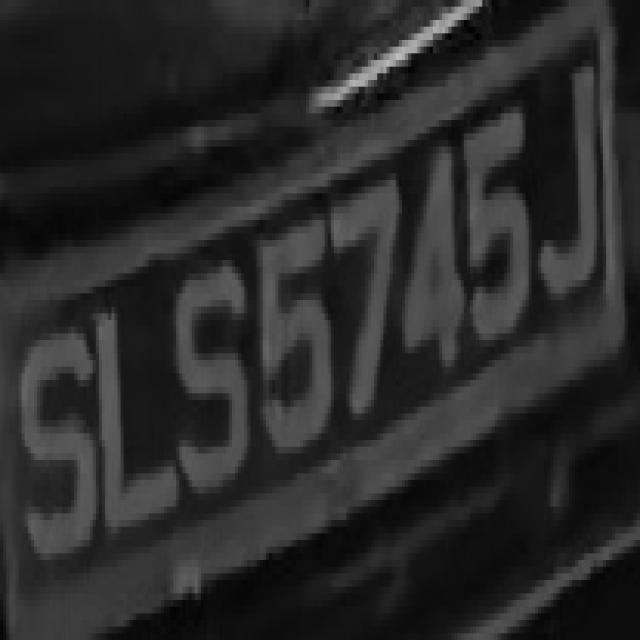4: (396, 140, 460, 407)
5: (247, 220, 331, 487), (461, 113, 535, 347)
7: (321, 180, 399, 447)
J: (532, 53, 606, 327)
L: (84, 280, 180, 533)
S: (158, 267, 254, 513), (12, 320, 93, 573)
